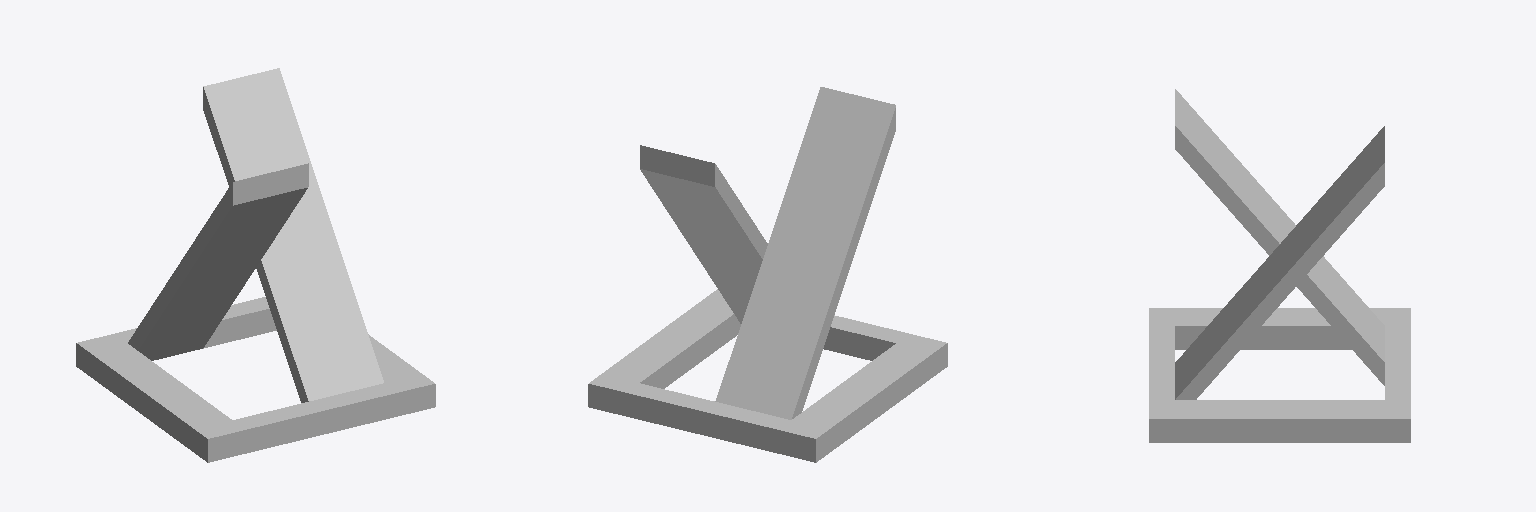
Rendered from Stairs.obj.
3 renders of one model, left to right at view 1: azimuth 30°, elevation 25°; view 2: azimuth 150°, elevation 25°; view 3: azimuth 270°, elevation 25°, orthographic.
Visible parts, largest first — view 1: cube1; view 2: cube1; view 3: cube1.
Part boxes in pixels (x1,y1,x2,y2): cube1: (76,68,435,462); cube1: (588,87,947,462); cube1: (1149,89,1410,442).
Size of the model in its own units: 1 by 1.1 by 1.